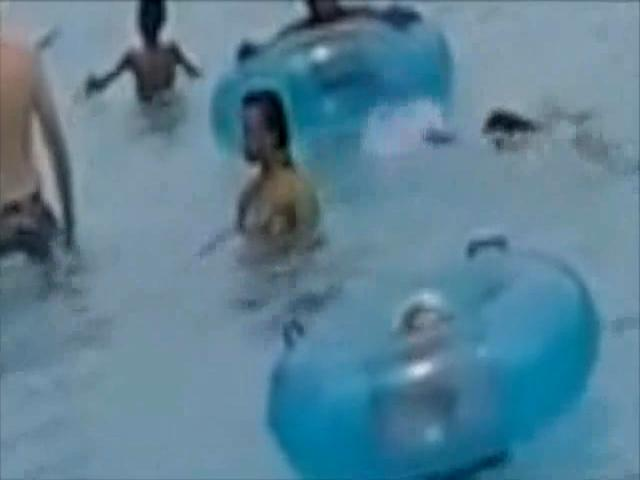drowning: (419, 80, 627, 172)
swimming: (0, 32, 118, 296), (210, 84, 348, 266), (102, 0, 213, 112)
